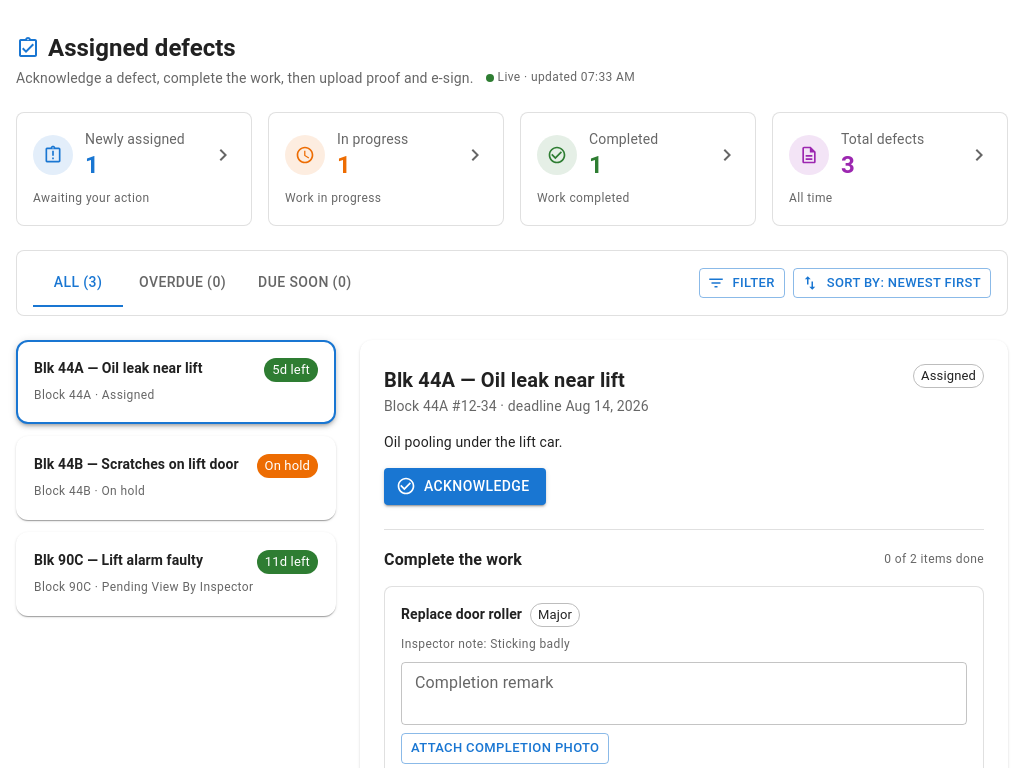
Test: ContractorInboxPage › counts and filters › filtering by block narrows the list to that block
This screenshot has width=1024, height=768.
Step 1. Click the button "Filter" → point(742, 283), box left=698, top=268, right=785, bottom=298
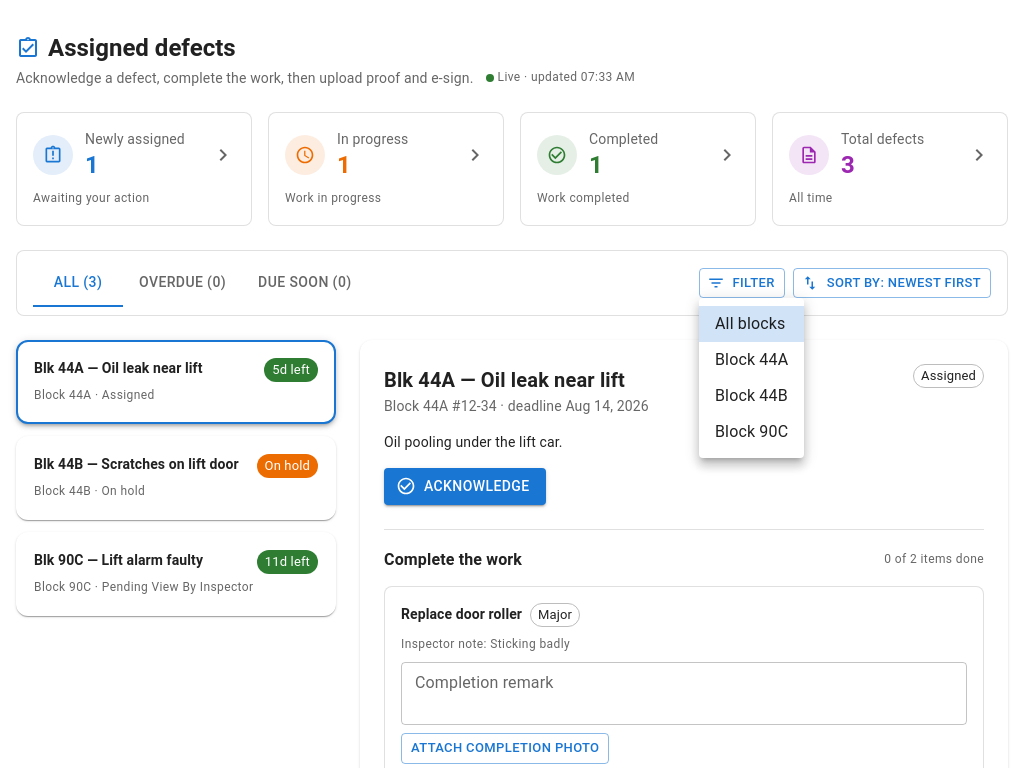
Step 2. Click the menu item "Block 44B" → point(751, 396), box left=715, top=386, right=788, bottom=405
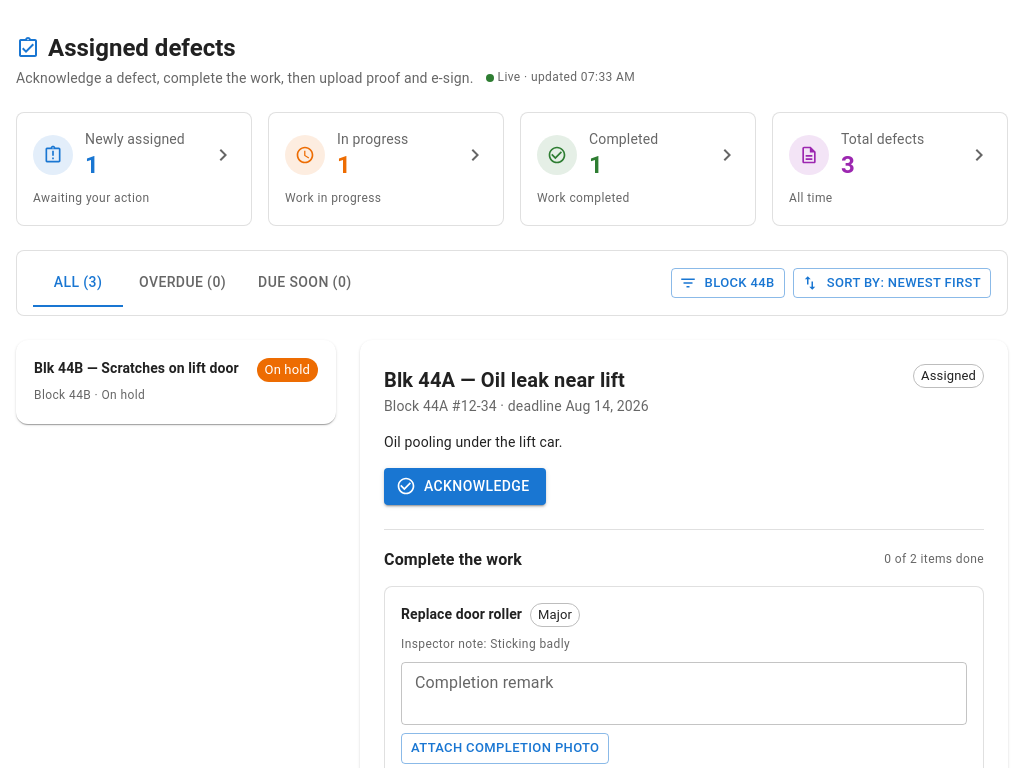
Expected: the heading "Blk 44B — Scratches on lift door" is shown, left=34, top=358, right=247, bottom=380
Expected: the heading "Blk 90C — Lift alarm faulty" is gone
